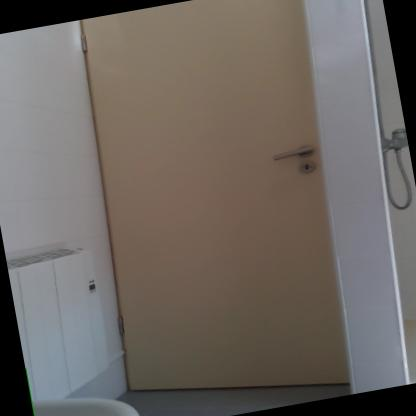closed: (62, 0, 376, 415)
